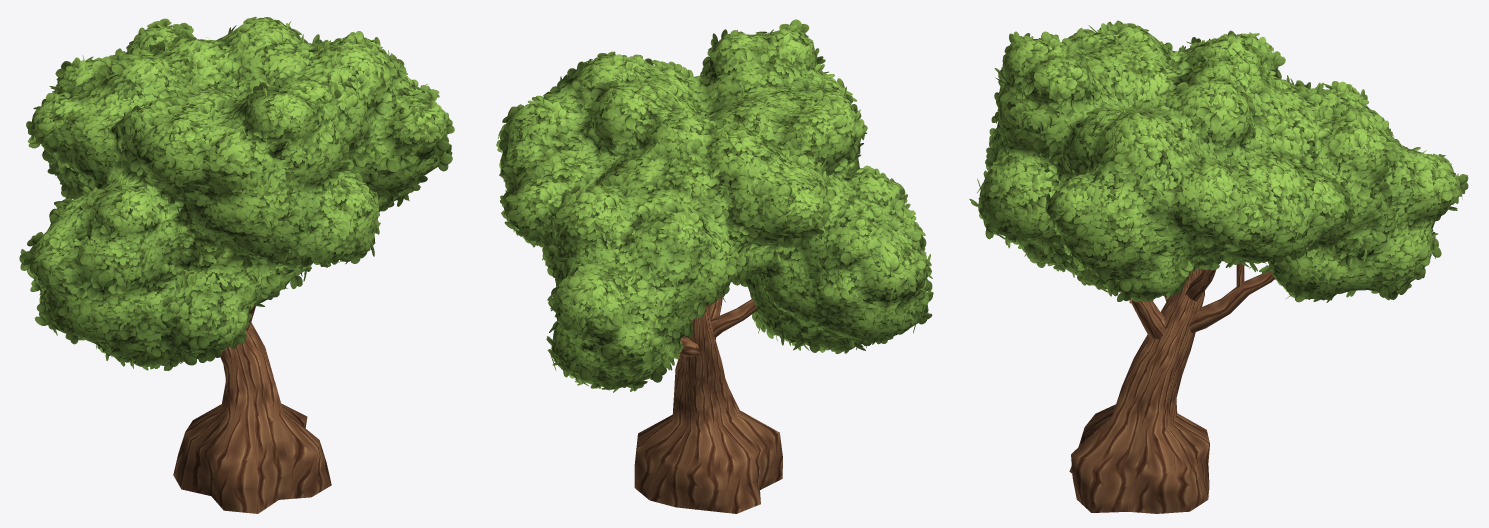
Rendered from oak_spring.glb.
3 renders of one model, left to right at view 1: azimuth 30°, elevation 25°; view 2: azimuth 150°, elevation 25°; view 3: azimuth 270°, elevation 25°, orthographic. The views are drawn at different scales.
Visible parts, largest first — view 1: oak_spring_volume_LOD0, oak_spring_leaves_LOD0, oak_spring_trunk_LOD0; view 2: oak_spring_volume_LOD0, oak_spring_leaves_LOD0, oak_spring_trunk_LOD0; view 3: oak_spring_volume_LOD0, oak_spring_leaves_LOD0, oak_spring_trunk_LOD0.
Boxes of the visible parts, x1=… form: oak_spring_volume_LOD0: x1=29, y1=17, x2=447, y2=362; oak_spring_leaves_LOD0: x1=19, y1=16, x2=454, y2=370; oak_spring_trunk_LOD0: x1=173, y1=306, x2=331, y2=513; oak_spring_volume_LOD0: x1=500, y1=29, x2=928, y2=387; oak_spring_leaves_LOD0: x1=496, y1=19, x2=933, y2=392; oak_spring_trunk_LOD0: x1=634, y1=296, x2=782, y2=513; oak_spring_volume_LOD0: x1=978, y1=28, x2=1459, y2=298; oak_spring_leaves_LOD0: x1=969, y1=20, x2=1468, y2=302; oak_spring_trunk_LOD0: x1=1069, y1=263, x2=1349, y2=513.
Size of what is drawn, in the model's own units: 10.55 by 10.78 by 11.13.
Materials: 3 (3 with a texture image).
